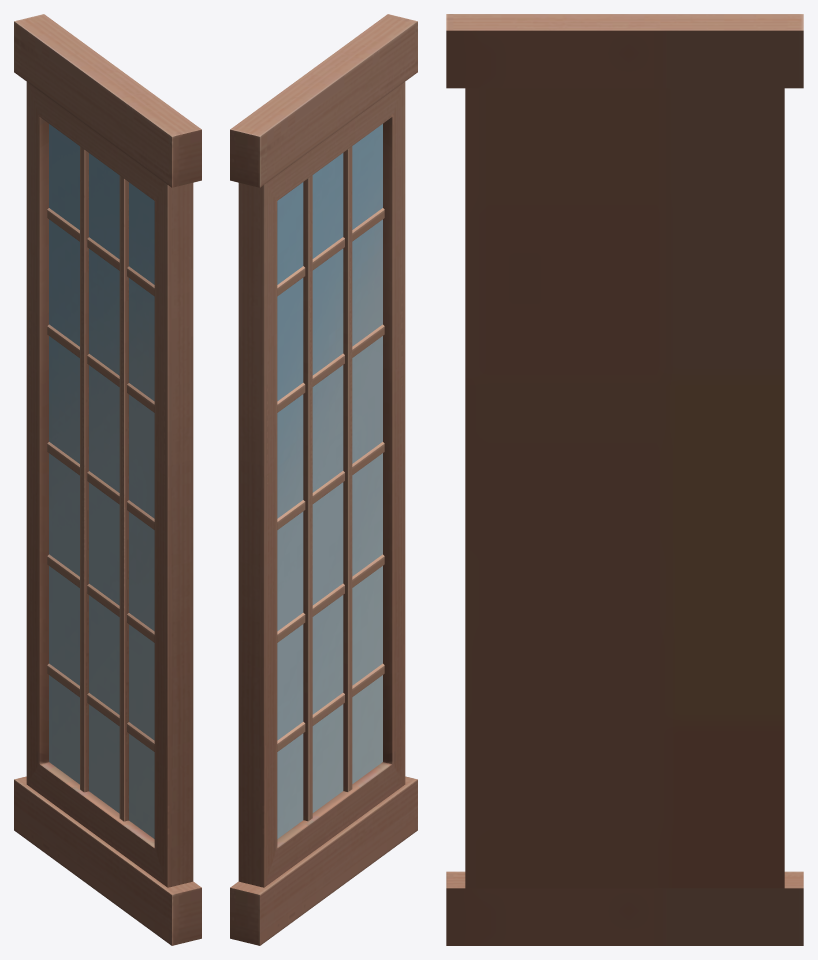
The model's file is my_hotsprings_01_window.glb.
3 views of the same model, side by side, from view 1: azimuth 30°, elevation 25°; view 2: azimuth 150°, elevation 25°; view 3: azimuth 270°, elevation 25° (orthographic). The views are drawn at different scales.
Parts seen in each view (by area): view 1: my_hotsprings_01_window; view 2: my_hotsprings_01_window; view 3: my_hotsprings_01_window.
Boxes of the visible parts, <box> form: my_hotsprings_01_window: <box>14,14,201,945</box>; my_hotsprings_01_window: <box>230,14,417,945</box>; my_hotsprings_01_window: <box>446,14,803,945</box>.
Bounding box in the file's own units: 0.000893 × 0.023 × 0.00814.
Materials: 1 (1 with a texture image).
